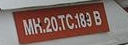0: (50, 16, 59, 31)
1: (74, 13, 81, 28)
2: (43, 17, 52, 33)
8: (78, 12, 87, 28)
9: (85, 12, 93, 27)
B: (92, 10, 102, 26)
C: (65, 13, 76, 29)
K: (32, 17, 43, 34)
M: (21, 18, 35, 35)
T: (57, 14, 67, 31)
